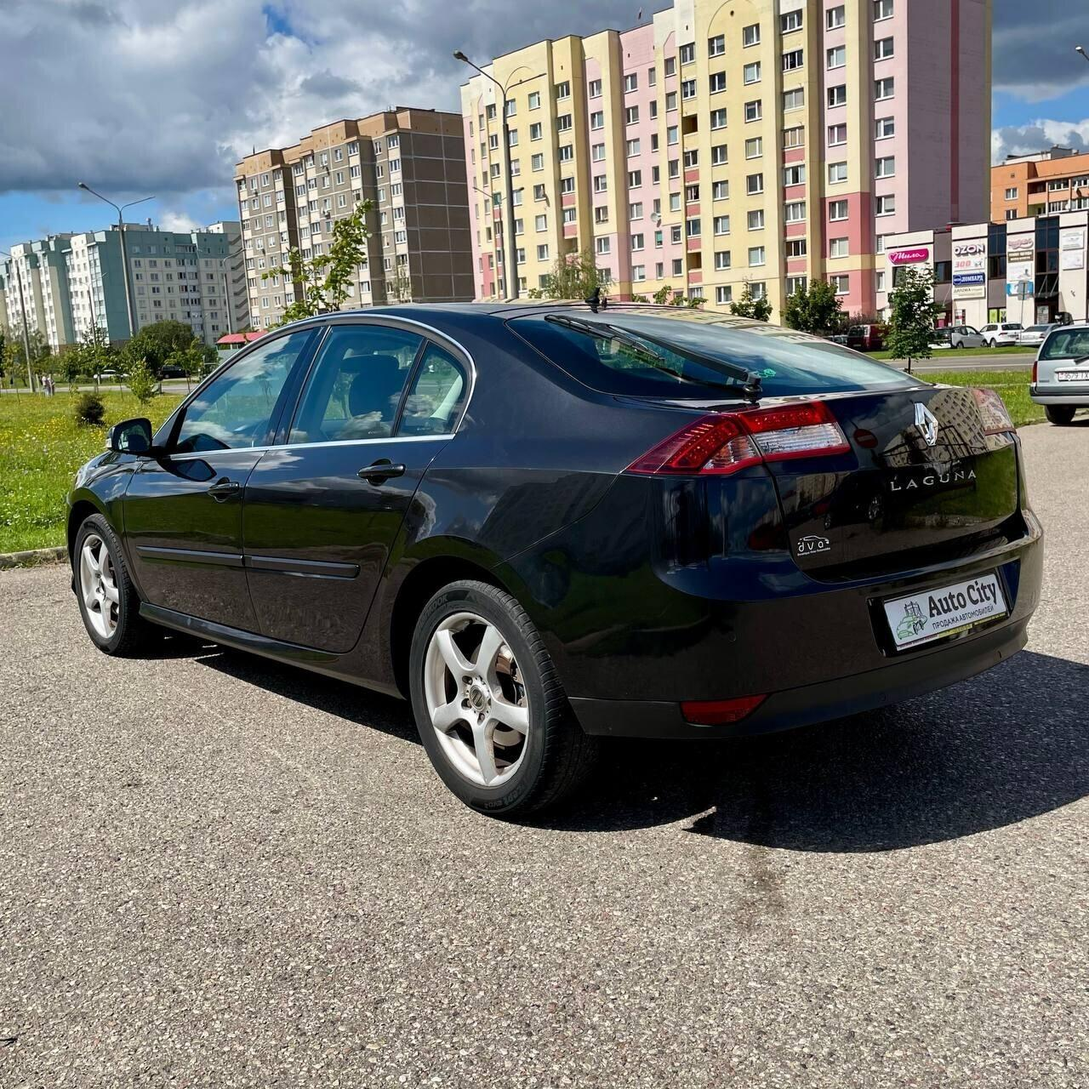Laguna_2010-2015: (58, 296, 1037, 815)
